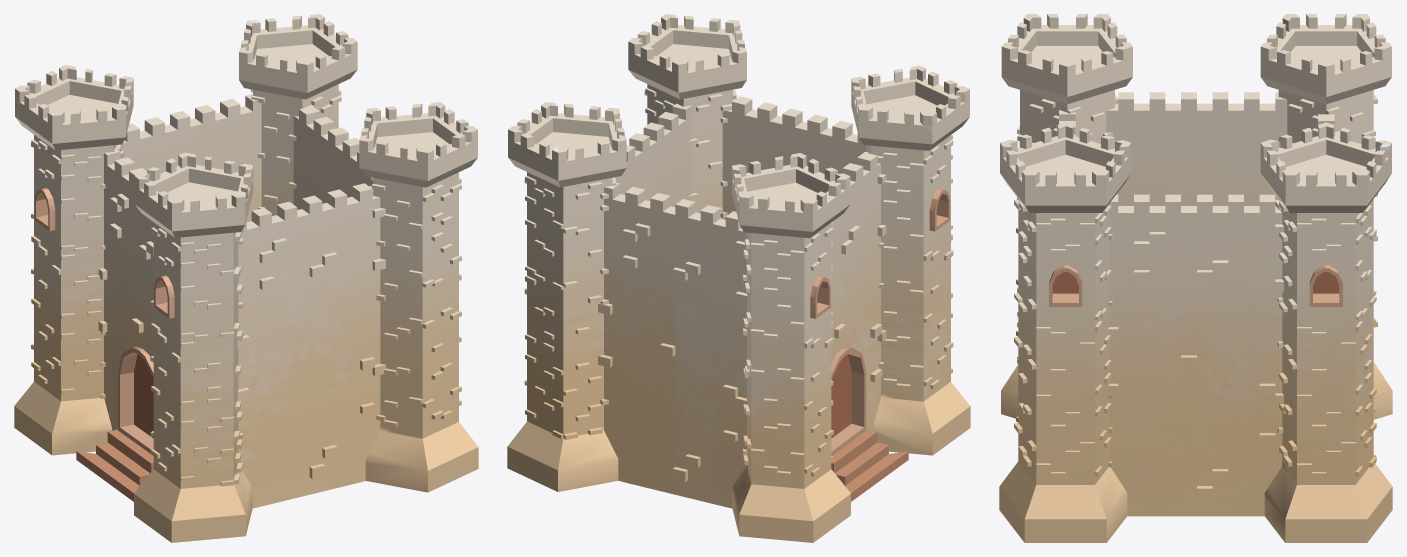
File: Castle.fbx
The picture shows the model from 3 angles, left to right: view 1: azimuth 30°, elevation 25°; view 2: azimuth 150°, elevation 25°; view 3: azimuth 270°, elevation 25°; orthographic projection. The views are drawn at different scales.
Parts seen in each view (by area): view 1: pasted__pasted__pPlatonic2; view 2: pasted__pasted__pPlatonic2; view 3: pasted__pasted__pPlatonic2.
Boxes of the visible parts, x1,y1,x2,y2 form: pasted__pasted__pPlatonic2: (14, 14, 478, 542); pasted__pasted__pPlatonic2: (507, 14, 970, 542); pasted__pasted__pPlatonic2: (999, 14, 1392, 542).
Size of the model in its own units: 6.86 by 7.27 by 7.05.
